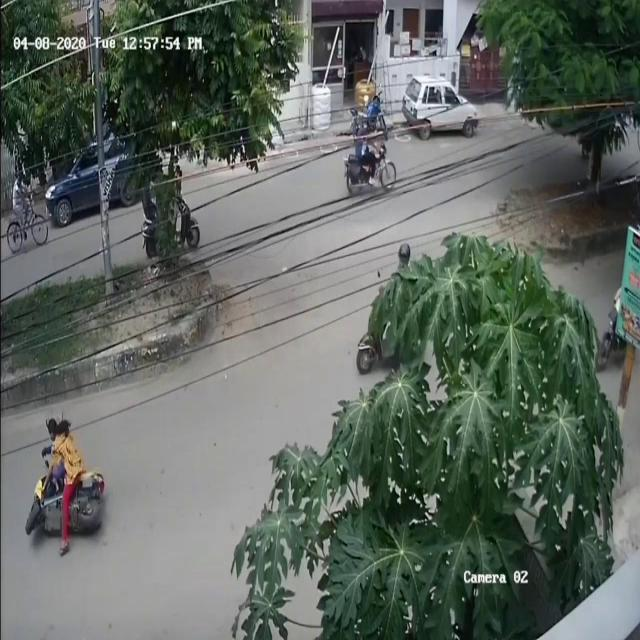accident: (25, 414, 106, 556)
